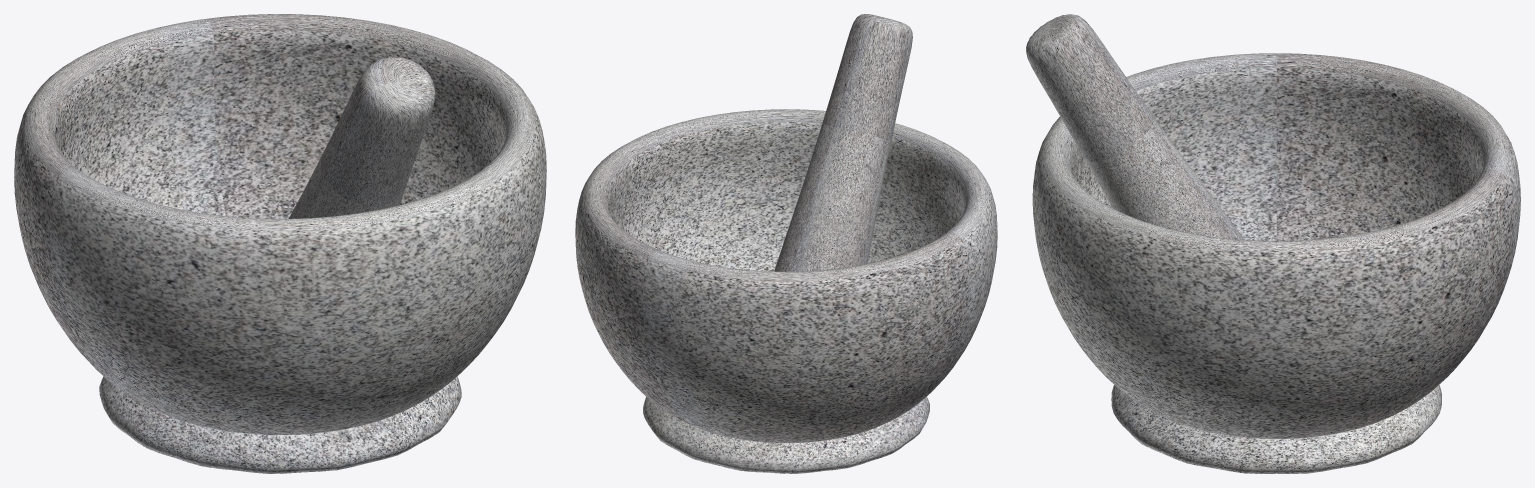
File: mortarAndPestle.fbx
3 views of the same model, side by side, from view 1: azimuth 30°, elevation 25°; view 2: azimuth 150°, elevation 25°; view 3: azimuth 270°, elevation 25° (orthographic). The views are drawn at different scales.
Parts seen in each view (by area): view 1: Mortar, pCylinder1; view 2: Mortar, pCylinder1; view 3: Mortar, pCylinder1.
Boxes of the visible parts, left/top/right/bottom form: Mortar: left=14, top=14, right=546, bottom=473; pCylinder1: left=288, top=56, right=435, bottom=218; Mortar: left=575, top=109, right=997, bottom=473; pCylinder1: left=774, top=14, right=912, bottom=271; Mortar: left=1032, top=53, right=1520, bottom=473; pCylinder1: left=1026, top=14, right=1244, bottom=239.
Bounding box in the file's own units: 2.28 × 2.04 × 2.31.
Materials: 1 (1 with a texture image).
